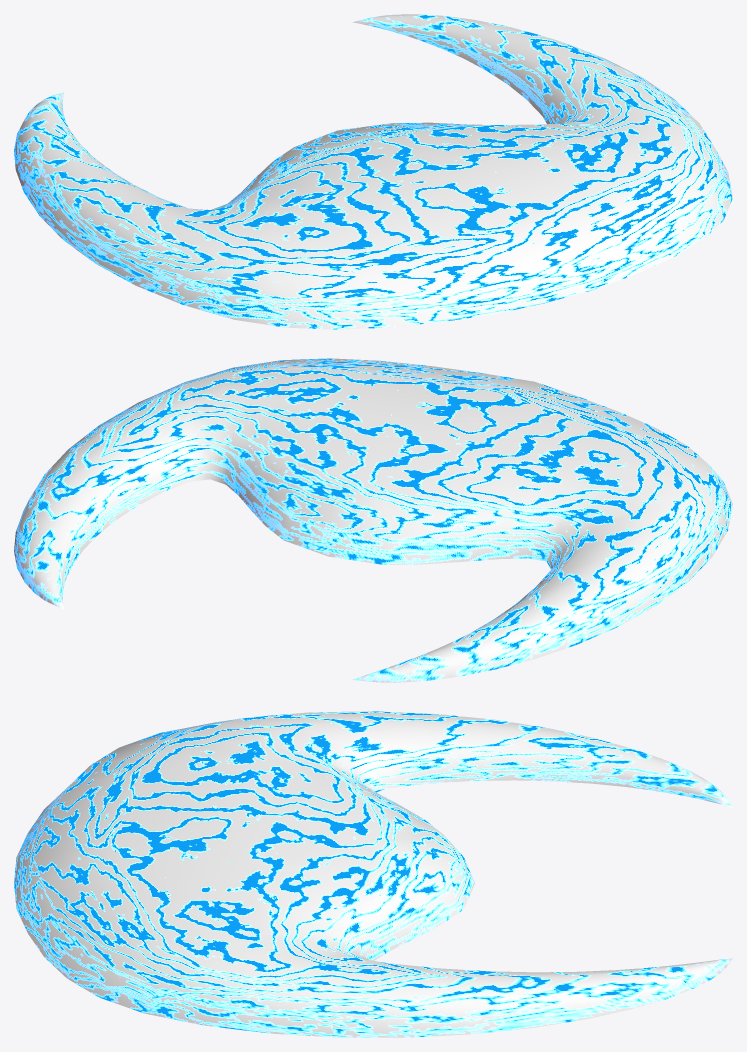
The model's file is SupremeOne.fbx.
3 views of the same model, one above another, from view 1: azimuth 30°, elevation 25°; view 2: azimuth 150°, elevation 25°; view 3: azimuth 270°, elevation 25° (orthographic). The views are drawn at different scales.
Visible parts, largest first — view 1: supreme_1; view 2: supreme_1; view 3: supreme_1.
Boxes of the visible parts, x1,y1,x2,y2 form: supreme_1: [14, 14, 732, 329]; supreme_1: [14, 358, 732, 682]; supreme_1: [14, 711, 732, 1037].
Bounding box in the file's own units: 577 × 568 × 43.26.
